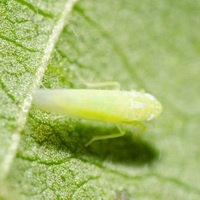insect: (33, 88, 161, 123)
